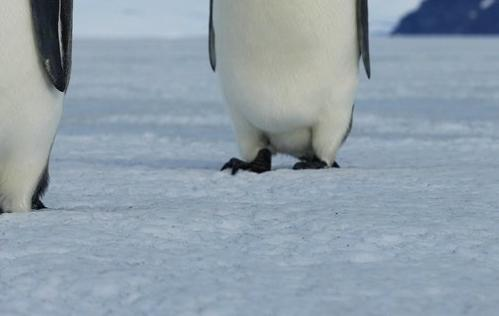Emperor Penguin: (182, 0, 392, 186), (0, 0, 98, 238)
